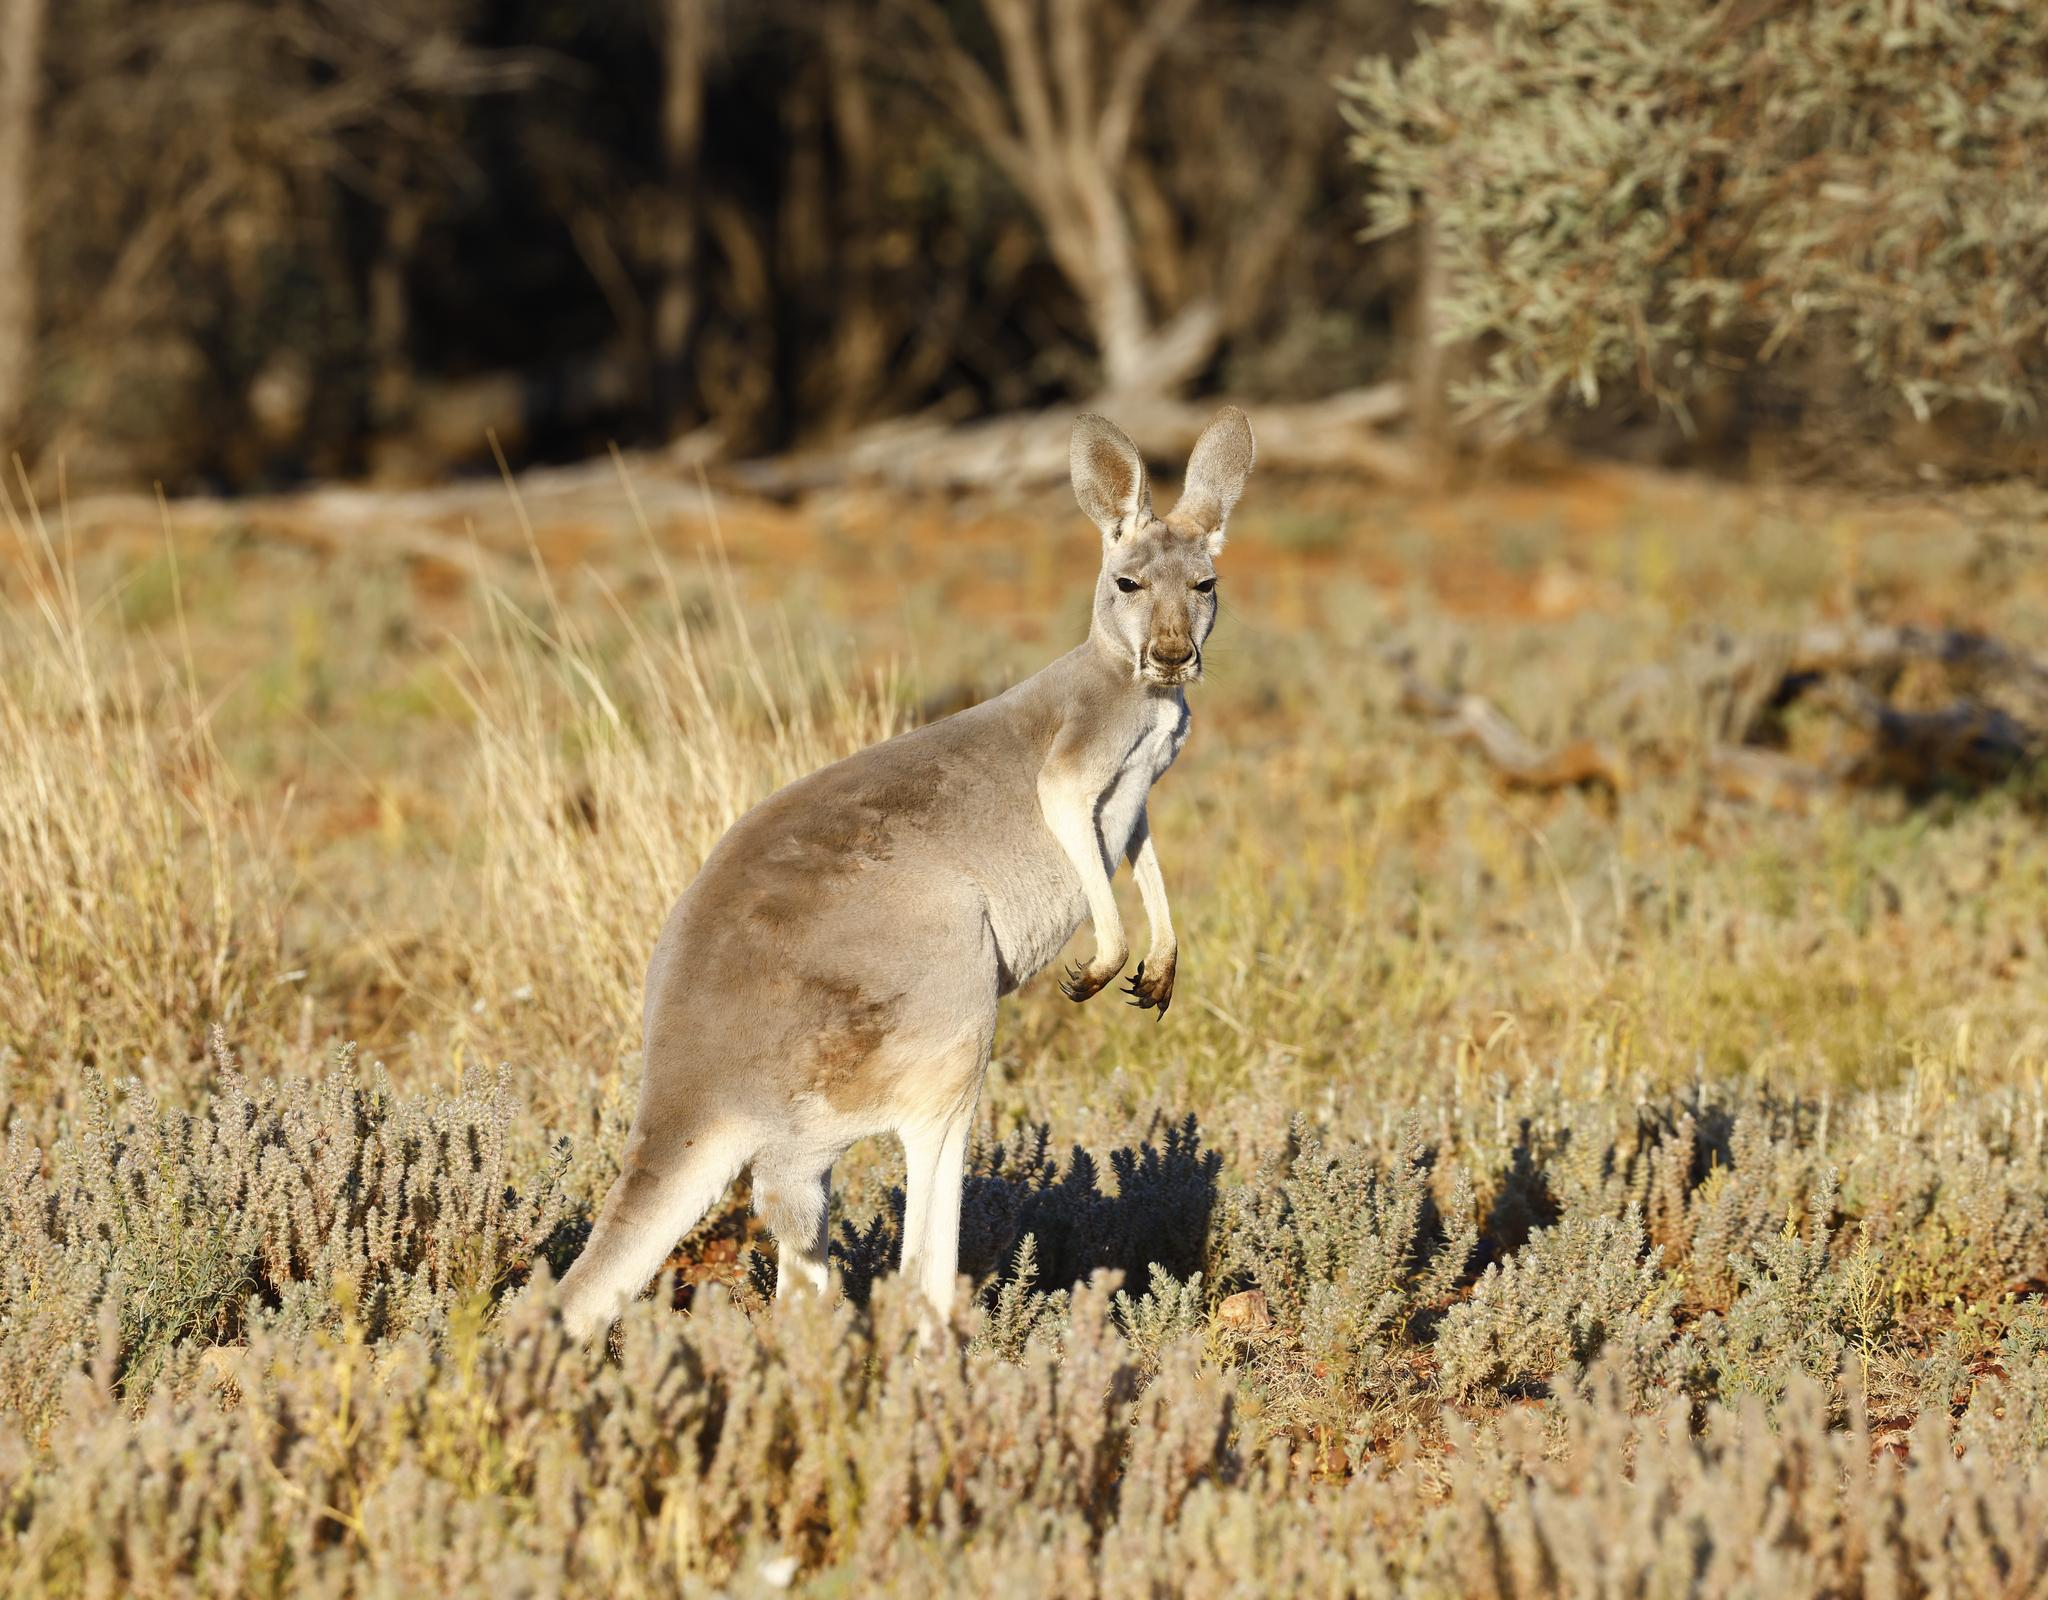Red kangaroo: (427, 396, 1285, 1394)
